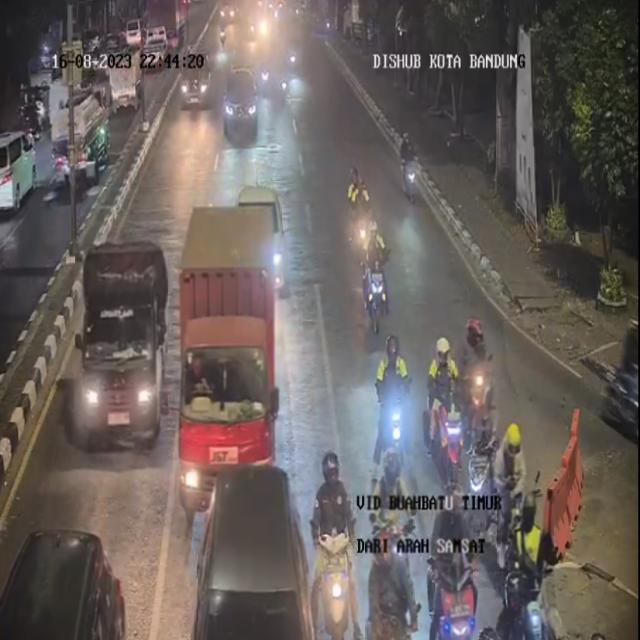cars: (198, 464, 322, 640), (75, 238, 168, 463), (0, 517, 128, 639), (224, 68, 264, 146)
motorcycle: (365, 454, 415, 640), (316, 447, 360, 640), (372, 331, 416, 496), (508, 489, 554, 640), (435, 490, 473, 640), (425, 333, 463, 474), (455, 313, 496, 441), (497, 415, 531, 563), (356, 223, 393, 338), (348, 166, 380, 277), (467, 396, 496, 516), (391, 138, 420, 210), (286, 39, 300, 72), (260, 57, 272, 92)
truck: (175, 182, 282, 521)
